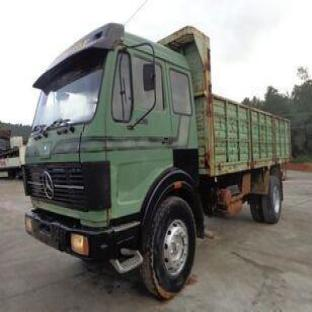Vehicle: (27, 46, 305, 290)
